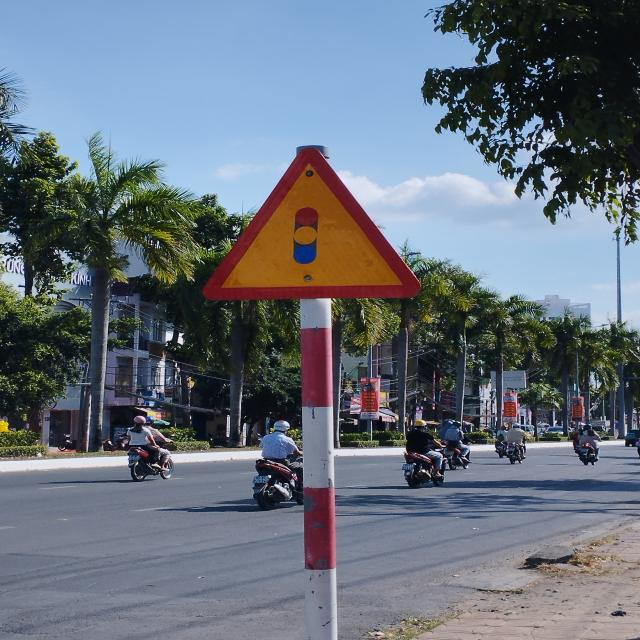Duong_Co_Go_Giam_Toc: (199, 143, 422, 300)
